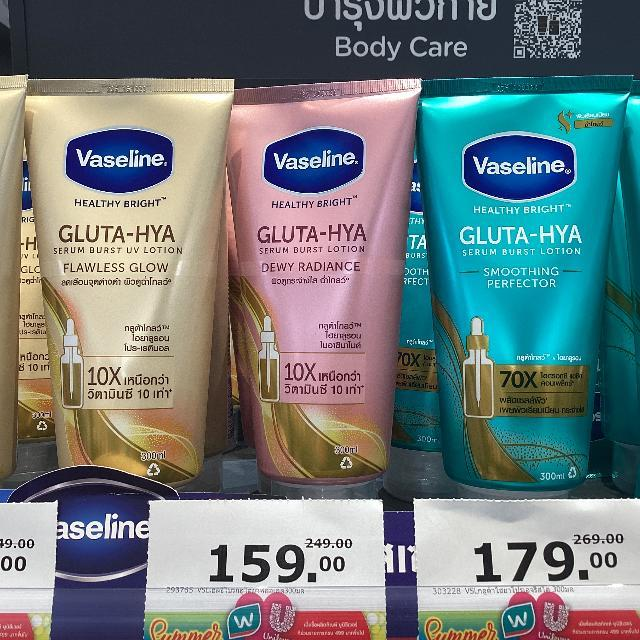Squeeze Tube: (16, 50, 234, 502), (415, 60, 640, 495), (219, 58, 427, 510)
